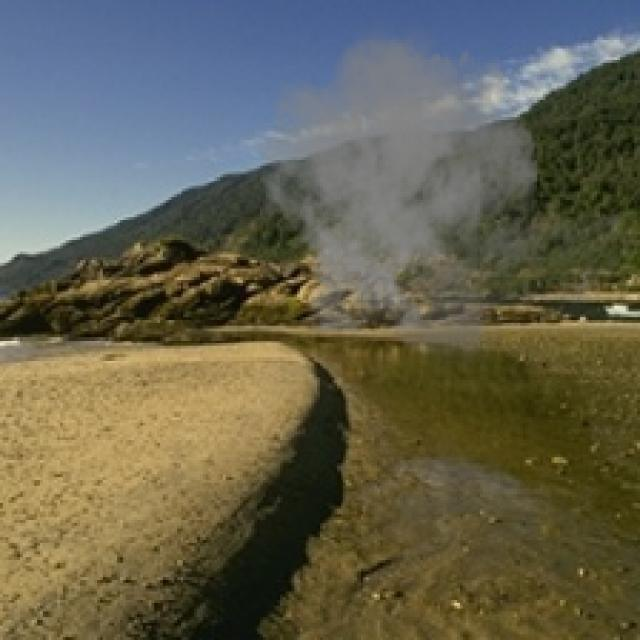smoke: (252, 12, 637, 377)
